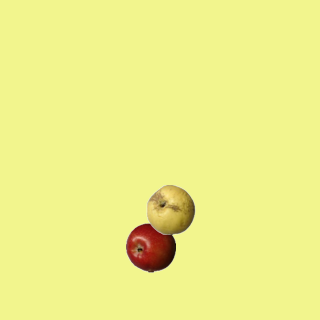Apple Braeburn: (125, 222, 175, 272)
Apple Golden 1: (145, 184, 195, 234)
